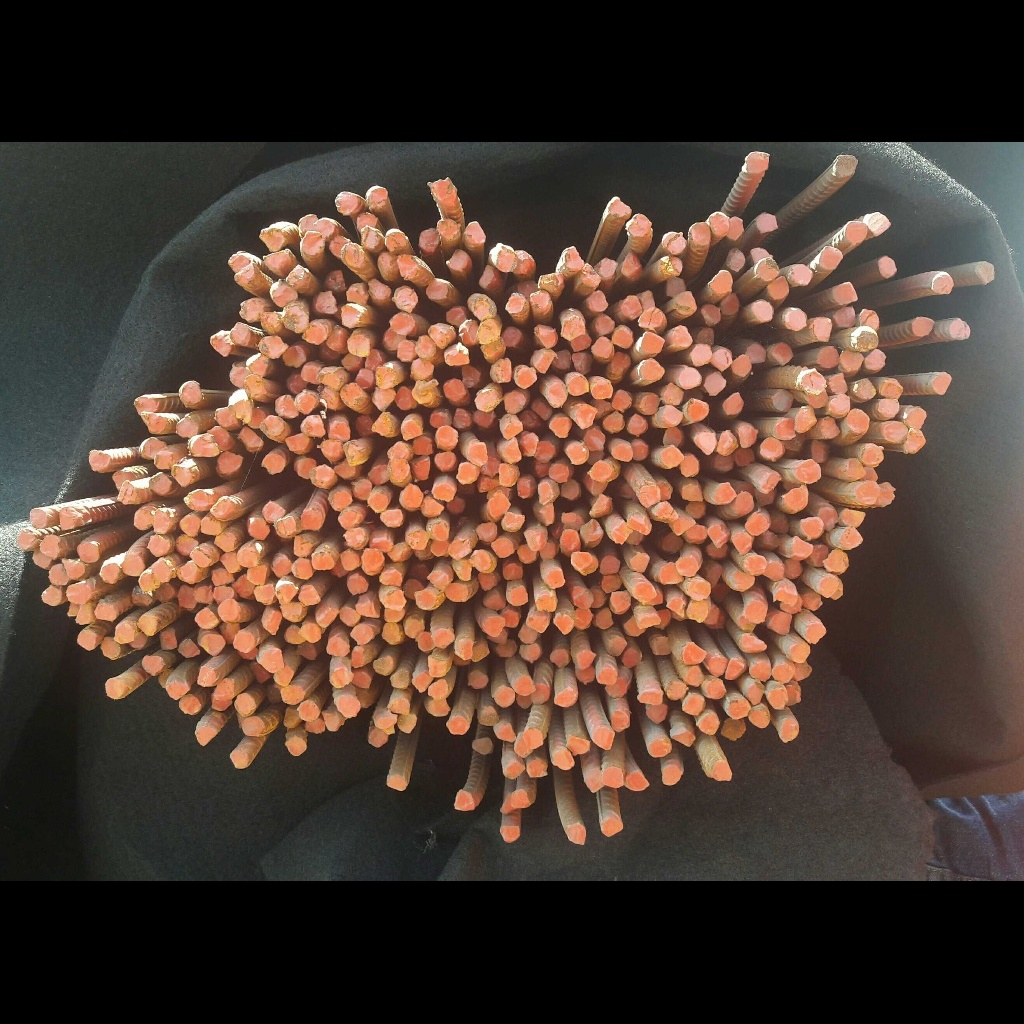dipstick: (467, 293, 497, 319), (282, 304, 309, 331), (270, 281, 298, 307), (852, 325, 878, 350), (429, 324, 455, 348), (799, 369, 825, 393), (265, 249, 292, 272), (784, 485, 808, 510), (795, 460, 821, 483), (532, 349, 556, 373), (857, 481, 881, 505), (867, 212, 891, 236), (259, 336, 284, 359), (313, 291, 338, 314), (373, 413, 398, 436), (493, 246, 515, 272), (659, 562, 685, 584), (716, 430, 738, 456), (795, 406, 816, 433), (191, 436, 219, 456), (275, 395, 299, 418), (400, 484, 423, 508), (394, 286, 417, 310), (745, 512, 769, 535), (218, 452, 243, 474), (211, 330, 233, 355), (319, 439, 344, 461), (310, 466, 335, 488), (362, 549, 384, 574), (444, 343, 469, 365), (500, 414, 522, 439), (572, 552, 597, 574), (721, 718, 746, 740), (687, 398, 709, 423), (412, 381, 438, 402), (259, 230, 286, 250), (347, 334, 370, 357), (473, 550, 496, 573), (590, 494, 613, 517), (683, 642, 706, 665), (863, 348, 886, 371), (825, 549, 848, 572), (397, 254, 421, 276), (382, 329, 406, 351), (432, 180, 456, 202), (526, 610, 550, 632), (537, 479, 559, 503), (561, 316, 585, 338), (662, 232, 686, 254), (674, 291, 696, 315), (760, 437, 784, 459), (247, 354, 272, 375), (390, 313, 415, 334), (458, 318, 479, 343), (474, 390, 499, 411), (772, 418, 797, 439), (736, 423, 757, 448), (622, 294, 642, 320), (755, 472, 781, 492), (740, 633, 766, 653), (212, 498, 235, 520), (241, 426, 263, 449), (240, 300, 263, 322), (301, 415, 324, 437), (345, 442, 368, 464), (341, 383, 363, 406), (302, 231, 324, 254), (335, 192, 358, 214), (341, 243, 364, 265), (385, 229, 407, 252), (477, 322, 500, 344), (498, 464, 521, 486), (515, 365, 537, 388), (512, 249, 534, 272), (623, 614, 646, 636), (638, 485, 661, 507), (660, 446, 683, 468), (708, 524, 730, 547), (756, 258, 779, 280), (820, 246, 842, 269), (769, 612, 792, 634), (931, 272, 953, 295), (195, 607, 219, 628), (282, 346, 306, 367), (374, 367, 398, 388), (416, 335, 437, 359), (682, 694, 706, 715), (844, 457, 865, 481), (848, 408, 869, 432), (883, 422, 907, 443), (177, 561, 199, 583), (176, 534, 198, 556), (179, 514, 201, 536), (263, 501, 285, 523), (361, 227, 383, 249), (436, 426, 458, 448), (453, 789, 475, 811), (602, 765, 624, 787), (698, 713, 720, 735), (767, 276, 789, 298), (784, 308, 806, 330), (771, 343, 793, 365), (732, 491, 754, 513), (744, 600, 766, 622), (861, 444, 883, 466), (845, 221, 867, 243), (177, 585, 198, 608), (261, 650, 284, 671), (271, 553, 292, 576), (291, 557, 314, 578), (432, 628, 455, 649), (342, 304, 363, 327), (409, 456, 430, 479), (593, 727, 614, 750), (483, 615, 506, 636), (524, 529, 547, 550), (639, 307, 662, 328), (834, 282, 857, 303), (840, 527, 863, 548), (912, 316, 935, 337), (904, 430, 925, 453), (67, 583, 91, 603), (201, 634, 225, 654), (437, 219, 461, 239), (560, 529, 580, 553), (589, 461, 613, 481), (627, 215, 651, 235), (640, 360, 664, 380), (730, 571, 754, 591), (773, 585, 797, 605), (282, 602, 307, 621), (338, 510, 363, 529), (123, 555, 145, 576), (218, 599, 240, 620), (234, 694, 256, 715), (233, 631, 255, 652), (316, 607, 337, 629), (388, 459, 410, 480), (366, 187, 387, 209), (329, 236, 351, 257), (396, 387, 417, 409), (419, 229, 440, 251), (444, 378, 465, 400), (571, 587, 593, 608), (504, 391, 525, 413), (642, 331, 663, 353), (610, 522, 631, 544), (695, 432, 716, 454), (663, 383, 684, 405), (700, 304, 721, 326), (752, 300, 773, 322), (789, 264, 810, 286), (840, 350, 862, 371), (773, 389, 794, 411), (731, 533, 753, 554), (749, 705, 770, 727), (782, 558, 804, 579), (802, 517, 823, 539), (829, 395, 850, 417), (854, 378, 876, 399), (142, 655, 165, 675), (368, 465, 391, 485), (388, 441, 411, 461), (368, 278, 391, 298), (430, 408, 453, 428), (447, 250, 470, 270), (468, 443, 488, 466), (491, 538, 514, 558), (491, 359, 511, 382), (548, 384, 568, 407), (595, 258, 618, 278), (535, 327, 558, 347), (628, 413, 648, 436), (686, 602, 709, 622), (654, 501, 677, 521), (710, 271, 733, 291), (262, 610, 281, 634), (230, 364, 249, 388), (726, 247, 745, 271), (742, 556, 766, 575), (153, 509, 171, 534), (280, 685, 305, 703), (152, 560, 173, 581), (196, 725, 217, 746), (300, 622, 321, 643), (262, 415, 283, 436), (244, 375, 265, 396), (304, 323, 325, 344), (295, 392, 316, 413), (587, 290, 608, 311), (567, 444, 588, 465), (581, 520, 602, 541), (610, 590, 631, 611), (612, 326, 633, 347), (635, 582, 656, 603), (712, 759, 733, 780), (680, 367, 701, 388), (818, 347, 839, 368), (835, 306, 856, 327), (827, 373, 848, 394), (778, 718, 799, 739), (182, 381, 202, 403), (143, 438, 165, 458), (40, 535, 60, 557), (101, 636, 121, 658), (148, 534, 170, 554), (186, 490, 208, 510), (338, 696, 360, 716), (331, 668, 353, 688), (248, 519, 270, 539), (318, 370, 340, 390), (435, 451, 457, 471), (457, 462, 479, 482), (553, 750, 575, 770), (550, 417, 572, 437), (552, 347, 572, 369), (592, 337, 614, 357), (690, 222, 710, 244), (660, 256, 682, 276), (629, 515, 651, 535), (703, 679, 725, 699), (726, 658, 746, 680), (676, 556, 698, 576), (680, 455, 700, 477), (705, 373, 725, 395), (835, 155, 857, 175), (859, 309, 879, 331), (806, 622, 826, 644), (77, 543, 100, 562), (228, 252, 251, 271), (397, 339, 416, 362), (554, 687, 577, 706), (592, 315, 615, 334), (684, 525, 707, 544), (660, 406, 683, 425), (793, 535, 812, 558), (933, 372, 952, 395), (813, 317, 831, 341), (177, 417, 198, 437), (172, 466, 193, 486), (41, 586, 62, 606), (138, 615, 159, 635), (221, 552, 242, 572), (180, 694, 201, 714), (286, 736, 307, 756), (273, 665, 293, 686), (299, 585, 320, 605), (277, 582, 297, 603), (347, 574, 368, 594), (404, 579, 424, 600), (429, 570, 449, 591), (423, 496, 443, 517), (286, 266, 307, 286), (495, 686, 515, 707), (490, 494, 510, 515), (553, 614, 574, 634), (606, 636, 627, 656), (517, 477, 538, 497), (535, 441, 555, 462), (575, 406, 595, 427), (583, 430, 604, 450), (647, 703, 668, 723), (707, 655, 727, 676), (714, 482, 735, 502), (672, 326, 693, 346), (691, 345, 711, 366), (731, 355, 751, 376), (750, 661, 771, 681), (745, 682, 765, 703), (766, 688, 786, 709), (820, 417, 840, 438), (906, 407, 926, 428), (215, 532, 237, 551), (263, 454, 285, 473), (345, 528, 367, 547), (301, 365, 323, 384), (346, 284, 368, 303), (355, 368, 374, 390), (401, 420, 423, 439), (426, 279, 448, 298), (427, 521, 449, 540), (507, 586, 529, 605), (502, 512, 524, 531), (610, 710, 629, 732), (565, 246, 584, 268), (729, 699, 751, 718), (746, 152, 768, 171), (780, 594, 802, 613), (95, 602, 118, 620), (211, 567, 234, 585), (167, 681, 190, 699), (426, 698, 449, 716), (432, 483, 455, 501), (446, 583, 469, 601), (503, 440, 521, 463), (582, 264, 600, 287), (976, 261, 994, 284), (771, 664, 795, 681), (49, 564, 69, 584), (105, 678, 125, 698), (215, 678, 235, 698), (332, 491, 352, 511), (428, 679, 448, 699), (385, 590, 405, 610), (466, 222, 486, 242), (568, 375, 588, 395), (639, 394, 659, 414), (631, 440, 651, 460), (661, 765, 681, 785), (663, 427, 683, 447), (723, 393, 743, 413), (790, 643, 810, 663), (146, 413, 167, 432), (88, 450, 109, 469), (150, 473, 171, 492), (132, 586, 153, 605), (198, 665, 217, 686), (237, 548, 258, 567), (373, 655, 394, 674), (328, 422, 349, 441), (300, 214, 319, 235), (524, 727, 543, 748), (622, 646, 641, 667), (712, 350, 731, 371), (881, 379, 902, 398), (118, 481, 136, 503), (190, 548, 212, 566), (327, 638, 349, 656), (351, 625, 373, 643), (335, 459, 357, 477), (314, 218, 336, 236), (449, 539, 471, 557), (455, 638, 473, 660), (601, 818, 623, 836), (568, 736, 590, 754), (519, 643, 541, 661), (650, 636, 672, 654), (878, 256, 896, 278), (134, 397, 157, 414), (521, 433, 538, 456), (649, 740, 672, 757), (65, 560, 85, 579), (101, 564, 121, 583), (77, 630, 96, 650), (299, 701, 319, 720), (276, 517, 295, 537), (301, 510, 321, 529), (231, 323, 250, 343), (368, 728, 388, 747), (397, 714, 417, 733), (340, 606, 359, 626), (357, 212, 377, 231), (446, 307, 466, 326), (496, 722, 516, 741), (586, 772, 605, 792), (690, 581, 710, 600), (746, 343, 765, 363), (951, 319, 970, 339), (216, 407, 237, 425), (178, 639, 199, 657), (242, 717, 263, 735), (284, 625, 305, 643), (313, 552, 334, 570), (298, 458, 316, 479), (388, 697, 409, 715), (354, 479, 372, 500), (412, 436, 433, 454), (413, 358, 434, 376), (407, 531, 428, 549), (430, 539, 451, 557), (476, 522, 497, 540), (626, 770, 644, 791), (544, 569, 565, 587), (506, 293, 524, 314), (612, 443, 633, 461), (603, 412, 624, 430), (609, 199, 630, 217), (710, 213, 728, 234), (686, 501, 707, 519), (721, 293, 739, 314), (820, 576, 838, 597), (878, 398, 899, 416), (638, 690, 663, 705), (447, 717, 469, 734), (495, 639, 517, 656), (535, 594, 557, 611), (379, 571, 402, 587), (784, 681, 800, 704), (115, 624, 134, 643), (140, 573, 159, 592), (247, 565, 266, 584), (293, 538, 312, 557), (417, 590, 436, 609), (515, 676, 534, 695), (576, 650, 595, 669), (519, 624, 538, 643), (502, 327, 521, 346), (612, 390, 631, 409), (630, 553, 649, 572), (684, 667, 703, 686), (134, 509, 152, 529), (160, 629, 178, 649), (201, 517, 221, 535), (194, 586, 214, 604), (352, 670, 372, 688), (406, 619, 424, 639), (235, 265, 255, 283), (468, 670, 488, 688), (479, 707, 499, 725), (514, 739, 534, 757), (550, 649, 570, 667), (575, 666, 595, 684), (549, 464, 569, 482), (593, 381, 613, 399), (601, 574, 621, 592), (670, 732, 694, 747), (666, 681, 686, 699), (757, 213, 777, 231), (113, 472, 134, 489), (381, 510, 402, 527), (478, 572, 499, 589), (484, 592, 505, 609), (502, 563, 523, 580), (575, 608, 592, 629), (286, 433, 308, 449), (727, 217, 743, 239), (155, 451, 174, 469), (255, 584, 274, 602), (412, 673, 430, 692), (568, 824, 586, 843), (511, 790, 530, 808), (531, 684, 549, 703), (501, 610, 520, 628), (517, 545, 536, 563), (600, 556, 619, 574), (766, 561, 784, 580), (214, 585, 234, 602), (229, 751, 249, 768), (368, 494, 388, 511), (596, 608, 613, 628), (530, 291, 550, 308), (682, 484, 702, 501), (60, 508, 76, 529), (386, 775, 407, 791), (504, 762, 525, 778), (471, 738, 493, 753), (17, 531, 35, 549), (561, 480, 579, 498), (30, 509, 47, 528), (390, 671, 409, 688), (383, 623, 400, 642), (528, 760, 547, 777), (500, 826, 520, 842), (370, 538, 392, 552), (325, 712, 341, 731), (418, 632, 434, 651), (305, 718, 325, 733), (342, 552, 359, 569), (33, 550, 51, 566), (428, 660, 446, 676), (598, 668, 616, 684), (638, 615, 659, 627)
